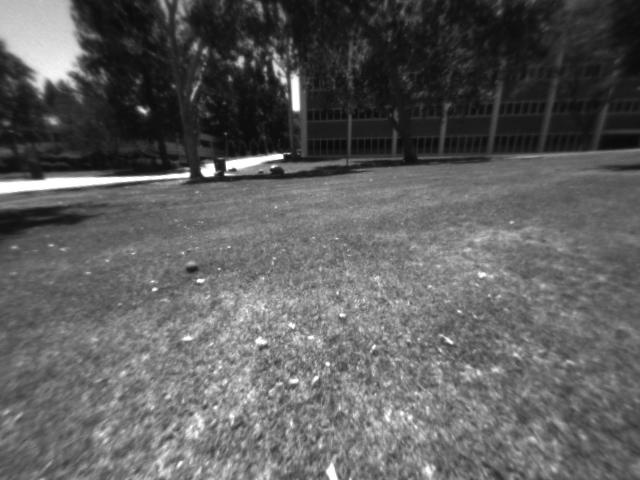dogtoy: (178, 257, 204, 275)
